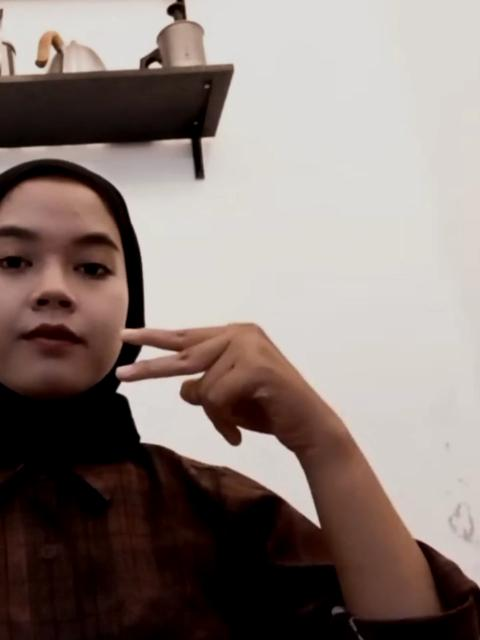H: (109, 321, 351, 454)
